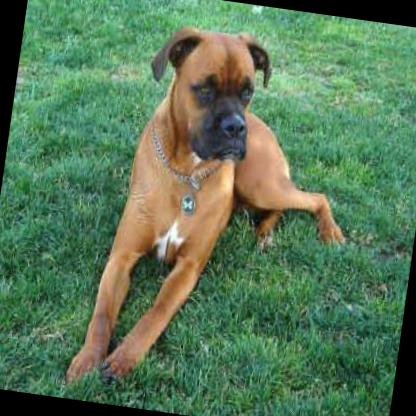boxer: (59, 10, 371, 416)
